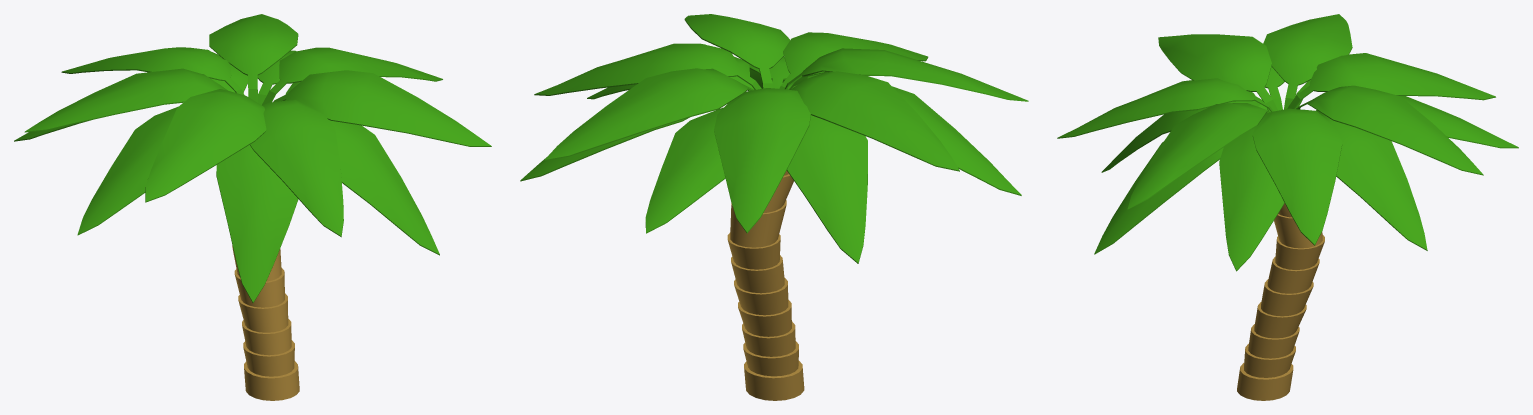
Rendered from BentPalmTreeObject.fbx.
3 views of the same model, side by side, from view 1: azimuth 30°, elevation 25°; view 2: azimuth 150°, elevation 25°; view 3: azimuth 270°, elevation 25° (orthographic). The views are drawn at different scales.
Visible parts, largest first — view 1: PalmTreeLeaf041, PalmTreeLeaf042, PalmTreeLeaf040, PalmTreeLeaf033, PalmTree_MoreLeaves, PalmTreeLeaf034, PalmTreeLeaf043, PalmTreeLeaf032, PalmTreeLeaf038, PalmTreeLeaf039, PalmTreeLeaf044, PalmTreeLeaf036; view 2: PalmTree_MoreLeaves, PalmTreeLeaf044, PalmTreeLeaf038, PalmTreeLeaf031, PalmTreeLeaf043, PalmTreeLeaf037, PalmTreeLeaf039, PalmTreeLeaf042, PalmTreeLeaf040, PalmTreeLeaf032, PalmTreeLeaf041, PalmTreeLeaf036 (+2 smaller); view 3: PalmTree_MoreLeaves, PalmTreeLeaf039, PalmTreeLeaf038, PalmTreeLeaf036, PalmTreeLeaf035, PalmTreeLeaf040, PalmTreeLeaf042, PalmTreeLeaf044, PalmTreeLeaf043, PalmTreeLeaf041, PalmTreeLeaf034, PalmTreeLeaf037 (+2 smaller).
Part boxes in pixels (x1=…): PalmTreeLeaf041: x1=250, y1=100, x2=343, y2=237; PalmTreeLeaf042: x1=145, y1=89, x2=266, y2=202; PalmTreeLeaf040: x1=273, y1=70, x2=491, y2=146; PalmTreeLeaf033: x1=216, y1=145, x2=298, y2=302; PalmTree_MoreLeaves: x1=232, y1=245, x2=299, y2=400; PalmTreeLeaf034: x1=328, y1=119, x2=439, y2=255; PalmTreeLeaf043: x1=24, y1=68, x2=227, y2=132; PalmTreeLeaf032: x1=77, y1=107, x2=177, y2=235; PalmTreeLeaf038: x1=209, y1=14, x2=298, y2=102; PalmTreeLeaf039: x1=262, y1=47, x2=442, y2=105; PalmTreeLeaf044: x1=61, y1=47, x2=244, y2=95; PalmTreeLeaf036: x1=257, y1=50, x2=295, y2=104; PalmTree_MoreLeaves: x1=727, y1=170, x2=804, y2=400; PalmTreeLeaf044: x1=714, y1=88, x2=810, y2=233; PalmTreeLeaf038: x1=544, y1=68, x2=753, y2=160; PalmTreeLeaf031: x1=786, y1=115, x2=867, y2=263; PalmTreeLeaf043: x1=790, y1=71, x2=959, y2=171; PalmTreeLeaf037: x1=645, y1=107, x2=725, y2=233; PalmTreeLeaf039: x1=534, y1=43, x2=761, y2=95; PalmTreeLeaf042: x1=785, y1=48, x2=1028, y2=101; PalmTreeLeaf040: x1=684, y1=14, x2=789, y2=88; PalmTreeLeaf032: x1=892, y1=86, x2=1021, y2=195; PalmTreeLeaf041: x1=779, y1=32, x2=928, y2=89; PalmTreeLeaf036: x1=520, y1=117, x2=689, y2=181; PalmTree_MoreLeaves: x1=1237, y1=203, x2=1324, y2=400; PalmTreeLeaf039: x1=1252, y1=108, x2=1342, y2=245; PalmTreeLeaf038: x1=1296, y1=85, x2=1483, y2=175; PalmTreeLeaf036: x1=1321, y1=115, x2=1427, y2=250; PalmTreeLeaf035: x1=1219, y1=127, x2=1284, y2=271; PalmTreeLeaf040: x1=1127, y1=103, x2=1268, y2=209; PalmTreeLeaf042: x1=1158, y1=34, x2=1277, y2=112; PalmTreeLeaf044: x1=1287, y1=53, x2=1495, y2=108; PalmTreeLeaf043: x1=1263, y1=14, x2=1352, y2=109; PalmTreeLeaf041: x1=1057, y1=78, x2=1273, y2=138; PalmTreeLeaf034: x1=1094, y1=141, x2=1223, y2=254; PalmTreeLeaf037: x1=1316, y1=96, x2=1518, y2=148.
Size of the model in its own units: 417 by 416 by 310.
